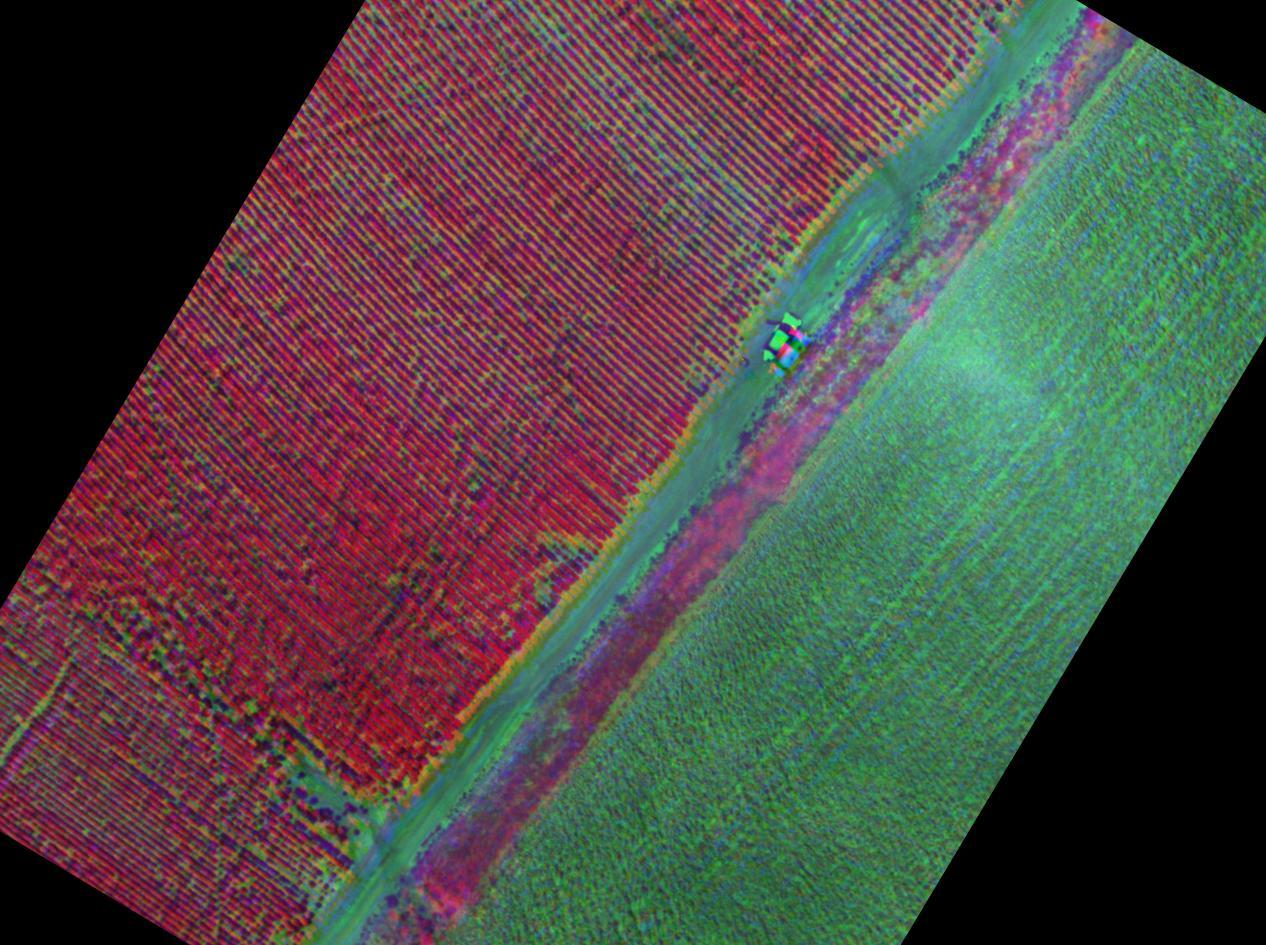dc: (257, 709, 408, 856), (697, 223, 802, 305), (624, 3, 720, 83), (524, 521, 610, 609)
